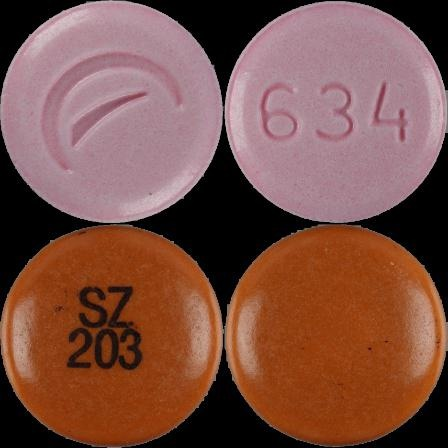0615-7679: (0, 0, 224, 224)
